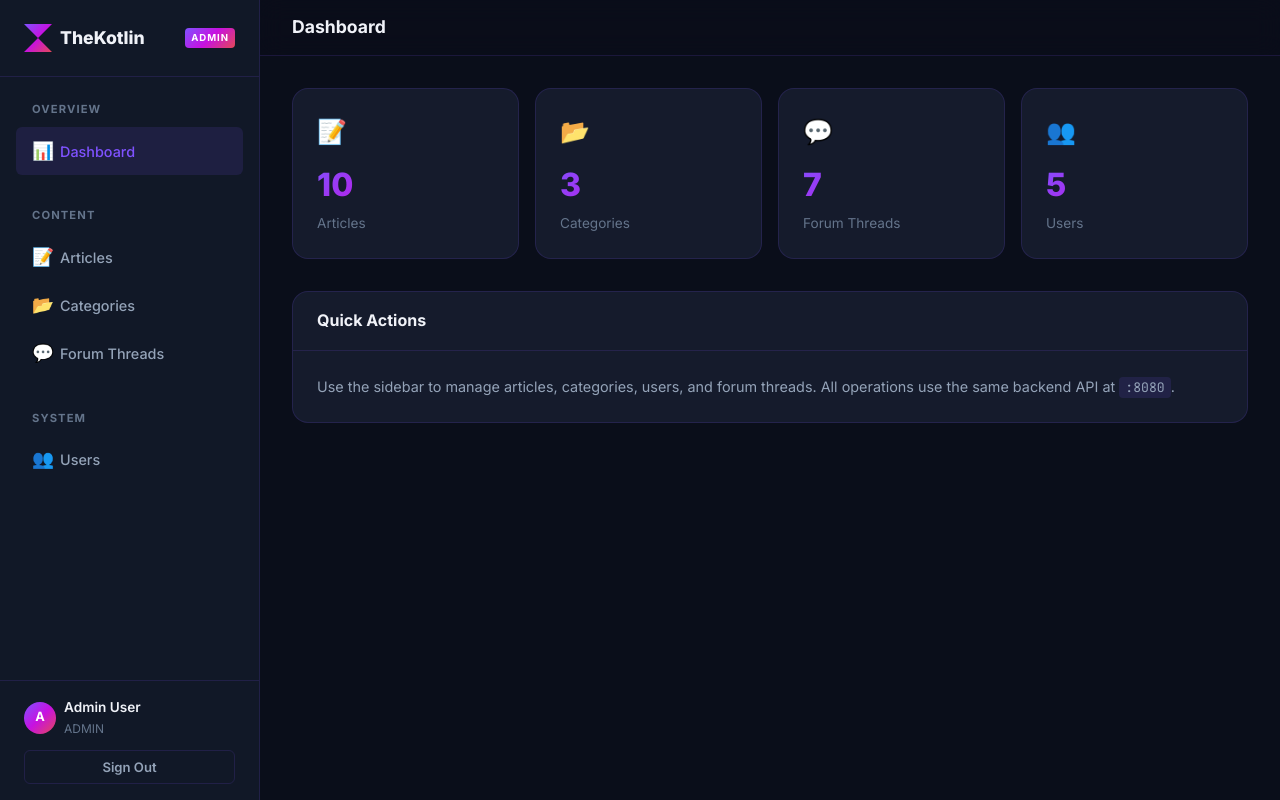
Scenario: AdminPage — Navigation › navigates to Users page
Check: the text "Admin User" is shown, box [64,699,141,715]
Click the element with class "sidebar-link" showing "👥 Users": (66, 459) [32,448,100,470]
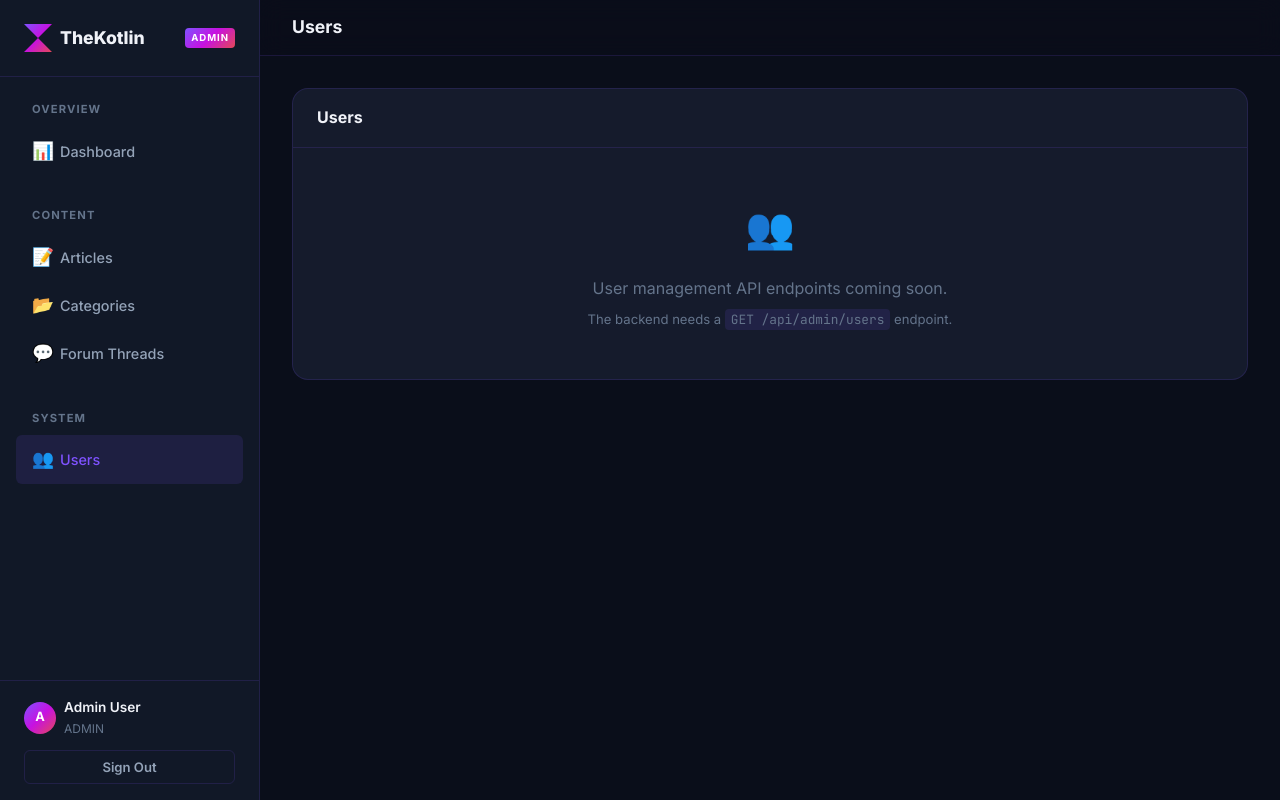
Check: the text "User management API endpoints coming soon." is shown, box [593,278,947,298]
